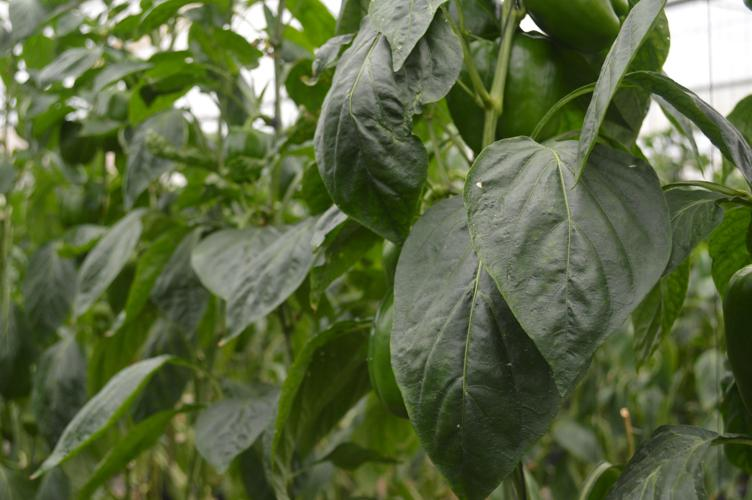BellPepper: (445, 35, 566, 154), (368, 297, 409, 416), (529, 1, 629, 49)
